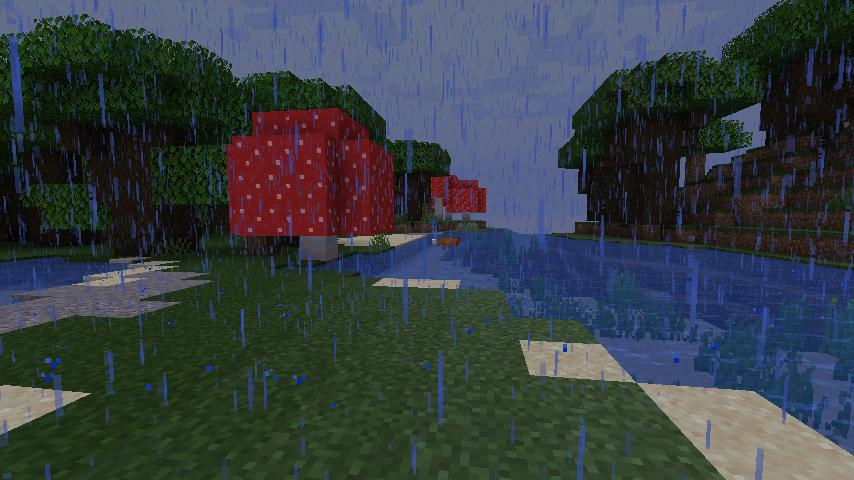fox: (431, 236, 463, 253)
